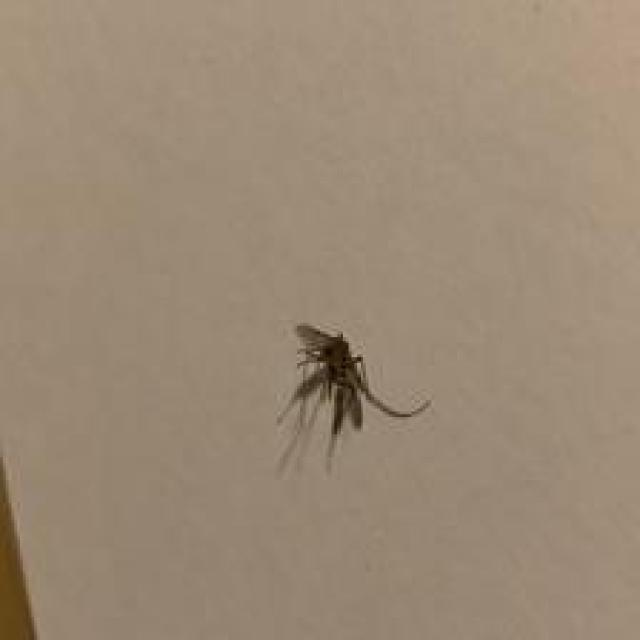Culex: (273, 322, 433, 478)
